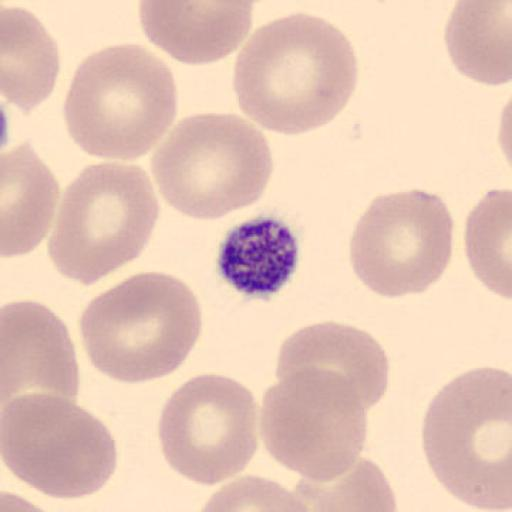Platelet: (214, 212, 304, 300)
RBC: (232, 10, 360, 138), (78, 269, 205, 385), (48, 159, 161, 288), (62, 41, 180, 164), (150, 110, 274, 223), (421, 364, 512, 510), (258, 365, 369, 483), (2, 392, 120, 501), (347, 188, 455, 300), (156, 371, 259, 487), (274, 319, 390, 413), (1, 298, 80, 411), (136, 0, 258, 68), (2, 142, 59, 259), (2, 4, 61, 116), (292, 455, 398, 512), (442, 0, 511, 87), (463, 186, 512, 303), (187, 472, 322, 512), (496, 74, 512, 177), (0, 489, 64, 511), (496, 92, 512, 172)
